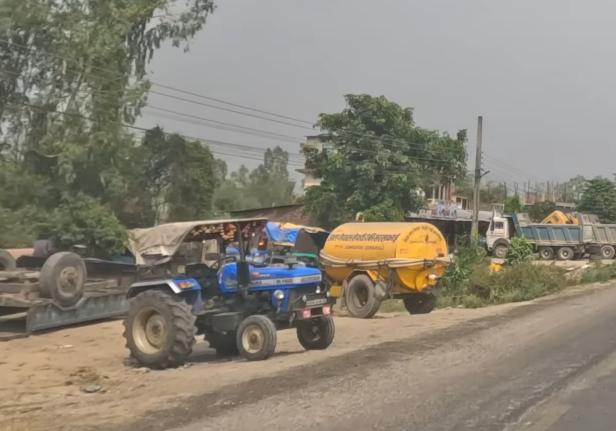tractor: (121, 218, 339, 372)
